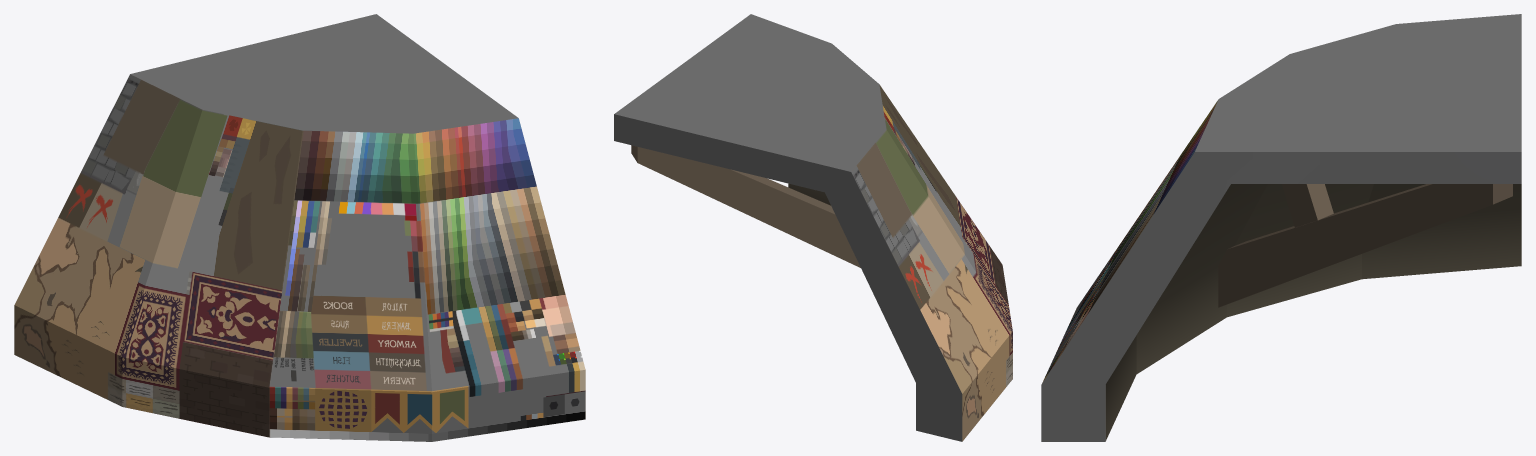
Rendered from kingdom_SM_Bld_Castle_Roof_M_Corner_Half_01.gltf.
The picture shows the model from 3 angles, left to right: view 1: azimuth 30°, elevation 25°; view 2: azimuth 150°, elevation 25°; view 3: azimuth 270°, elevation 25°; orthographic projection. The views are drawn at different scales.
Parts seen in each view (by area): view 1: SM_Bld_Castle_Roof_M_Corner_Half_01; view 2: SM_Bld_Castle_Roof_M_Corner_Half_01; view 3: SM_Bld_Castle_Roof_M_Corner_Half_01.
Boxes of the visible parts, x1,y1,x2,y2 form: SM_Bld_Castle_Roof_M_Corner_Half_01: (14,14,585,441); SM_Bld_Castle_Roof_M_Corner_Half_01: (614,14,1012,441); SM_Bld_Castle_Roof_M_Corner_Half_01: (1041,14,1521,441).
Size of the model in its own units: 3.75 by 2.5 by 3.75.
Materials: 2 (2 with a texture image).
